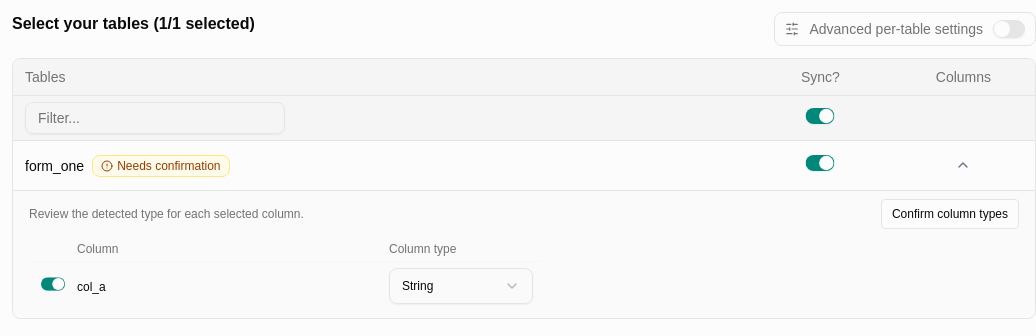
Test: StreamConfigTable confirmation › keeps table confirmation visible when collapsed and resets it for a reselected column
Click the button "Confirm column types".
click(950, 214)  # box [881, 199, 1019, 229]
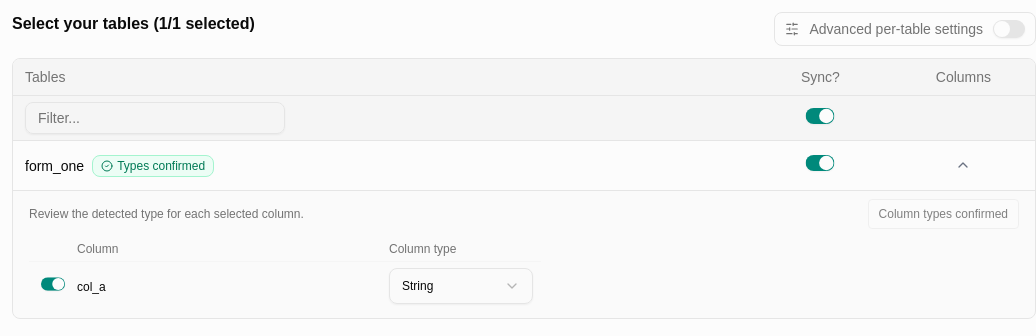
Now the text "Types confirmed" is shown, box [92, 154, 214, 176]
Now the button "Column types confirmed" is disabled, box [868, 199, 1019, 229]
Click the button named "Hide columns for form_one".
click(964, 165)  # box [952, 153, 976, 177]
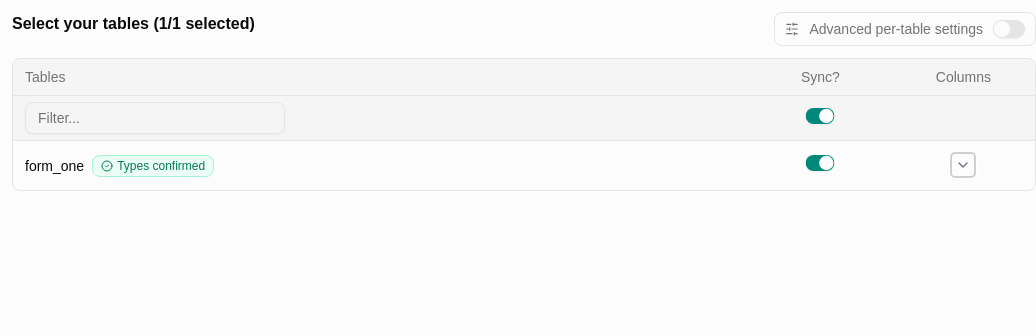
Now the text "Types confirmed" is shown, box [92, 154, 214, 176]
Now the text "col_a" is gone
Click the button named "Show columns for form_one".
click(964, 165)  # box [952, 153, 976, 177]
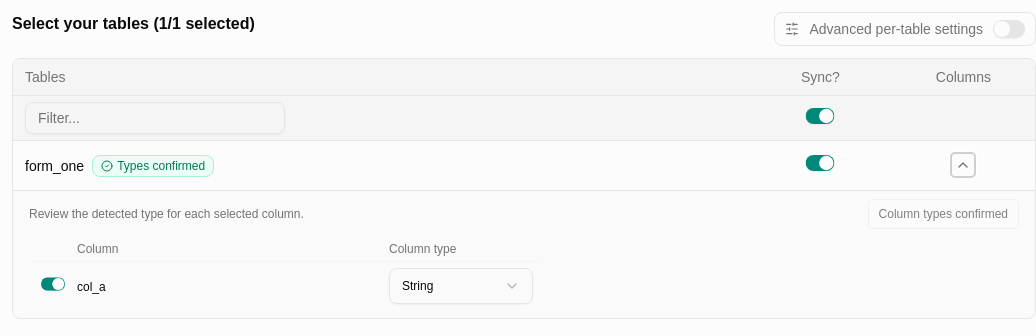
Click the switch with test id "col-toggle-form_one-col_a".
click(53, 284)  # box [41, 277, 65, 291]
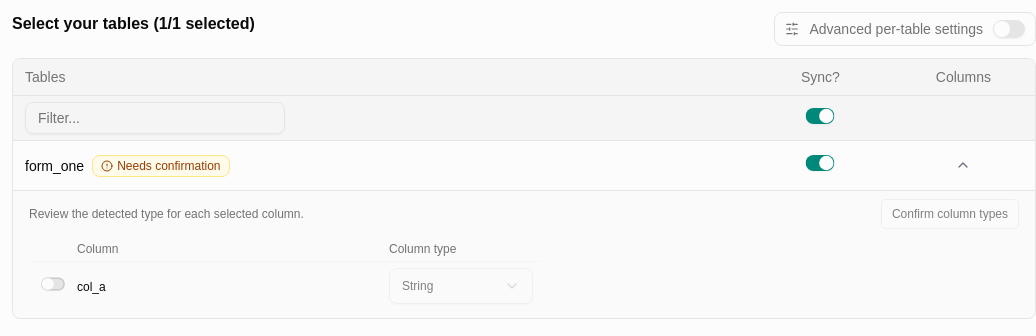
Click the switch with test id "col-toggle-form_one-col_a".
click(53, 284)  # box [41, 277, 65, 291]
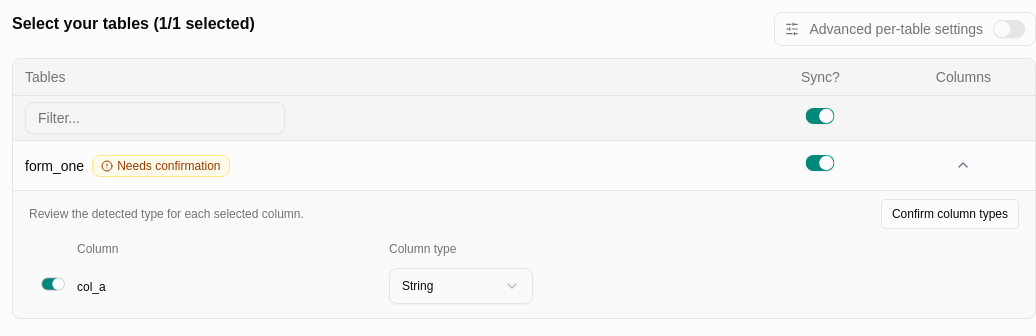
Expected: the text "Types confirmed" is not shown
Now the text "Needs confirmation" is shown, box [92, 154, 230, 176]
Now the button "Confirm column types" is enabled
Click the button "Confirm column types".
click(950, 214)  # box [881, 199, 1019, 229]
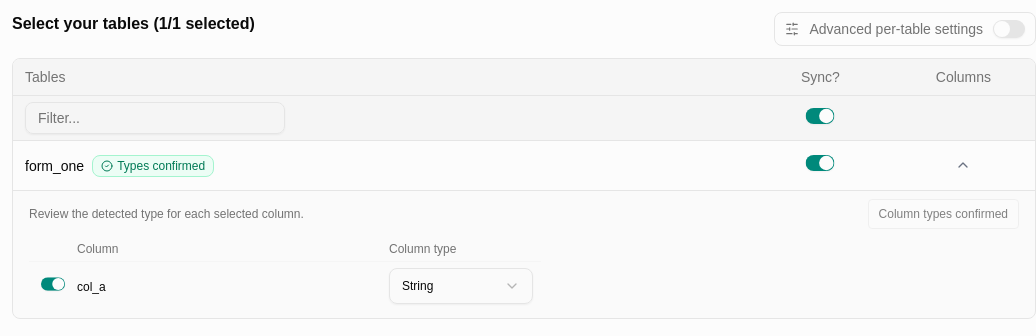
Now the text "Types confirmed" is shown, box [92, 154, 214, 176]
